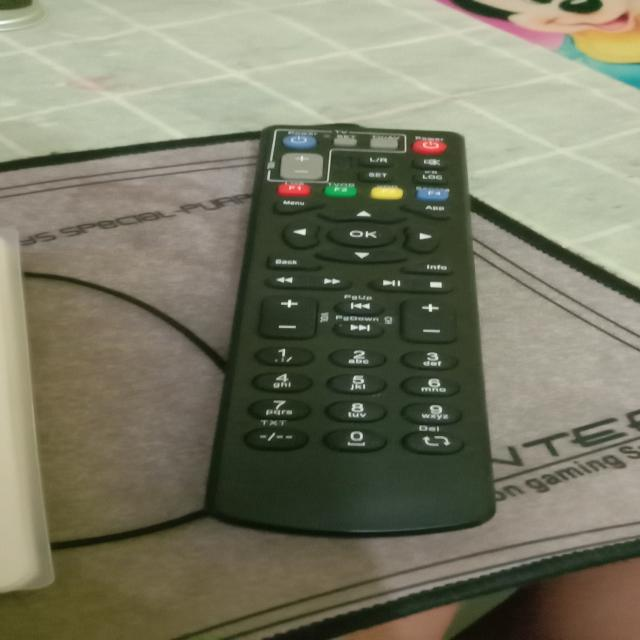remote: (243, 126, 492, 549)
